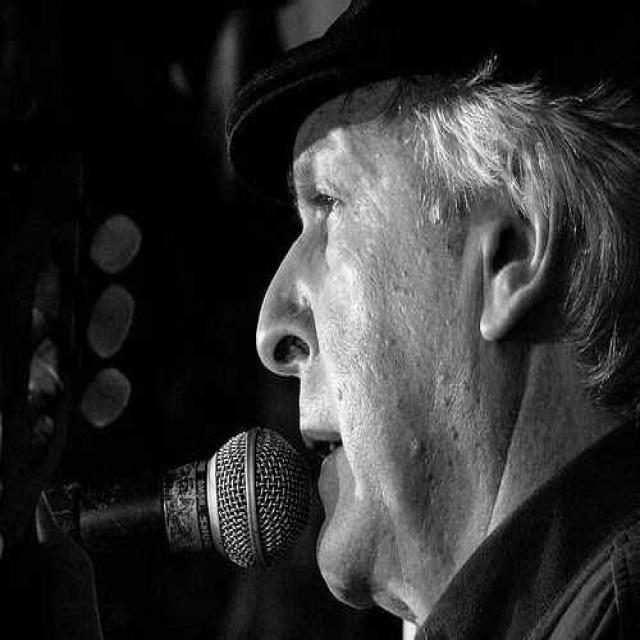microphone: (39, 421, 320, 574)
